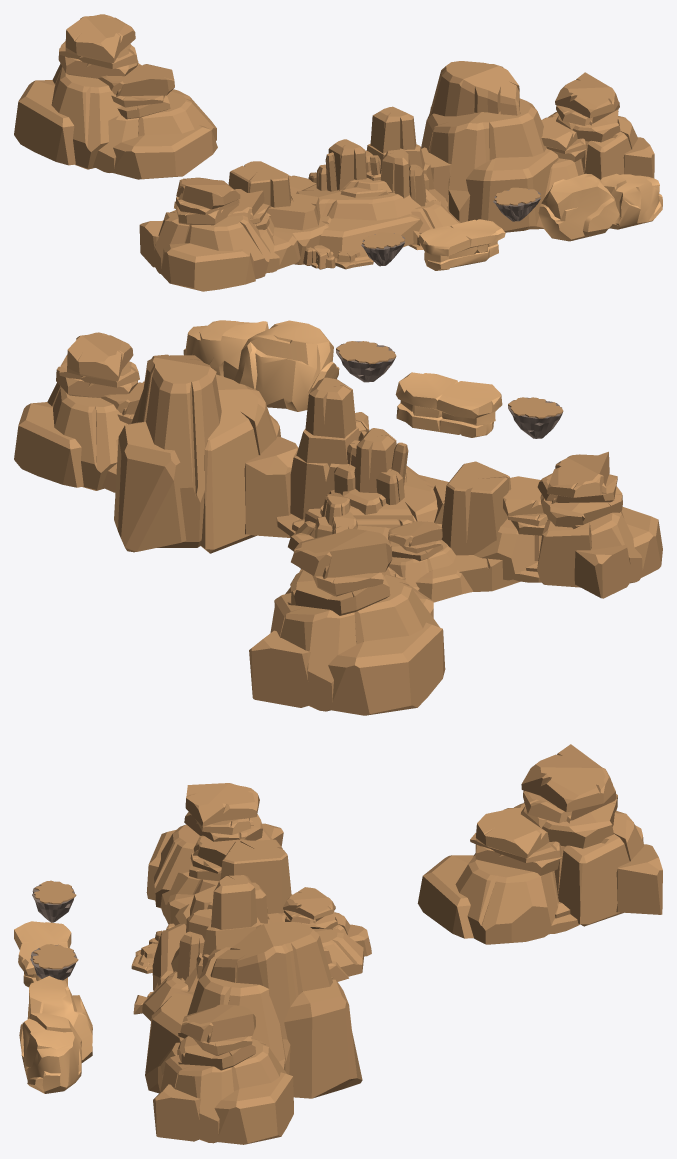
File: level 1.fbx
The picture shows the model from 3 angles, top to bottom: view 1: azimuth 30°, elevation 25°; view 2: azimuth 150°, elevation 25°; view 3: azimuth 270°, elevation 25°; orthographic projection. The views are drawn at different scales.
Parts seen in each view (by area): view 1: canyon 1.002, canyon 1, canyon 2, canyon 1.001, canyon 3, platform batu 2, platform batu 1, ground melayang.001, ground melayang; view 2: canyon 2, canyon 1, canyon 1.002, canyon 1.001, canyon 3, platform batu 2, platform batu 1, ground melayang.001, ground melayang; view 3: canyon 1.002, canyon 2, canyon 1, canyon 3, canyon 1.001, platform batu 2, platform batu 1, ground melayang.001, ground melayang.
Part boxes in pixels (x1=…): canyon 1.002: x1=14, y1=14, x2=217, y2=179; canyon 1: x1=228, y1=106, x2=460, y2=269; canyon 2: x1=421, y1=61, x2=558, y2=232; canyon 1.001: x1=139, y1=177, x2=300, y2=291; canyon 3: x1=541, y1=72, x2=654, y2=196; platform batu 2: x1=538, y1=173, x2=662, y2=241; platform batu 1: x1=418, y1=219, x2=505, y2=270; ground melayang.001: x1=493, y1=187, x2=540, y2=221; ground melayang: x1=361, y1=232, x2=404, y2=266; canyon 2: x1=114, y1=354, x2=297, y2=553; canyon 1: x1=276, y1=377, x2=520, y2=602; canyon 1.002: x1=249, y1=528, x2=445, y2=715; canyon 1.001: x1=474, y1=451, x2=662, y2=598; canyon 3: x1=14, y1=332, x2=144, y2=492; platform batu 2: x1=183, y1=320, x2=339, y2=411; platform batu 1: x1=395, y1=372, x2=502, y2=437; ground melayang.001: x1=336, y1=341, x2=396, y2=382; ground melayang: x1=508, y1=397, x2=563, y2=438; canyon 1.002: x1=417, y1=744, x2=662, y2=944; canyon 2: x1=145, y1=921, x2=362, y2=1098; canyon 1: x1=131, y1=839, x2=371, y2=1020; canyon 3: x1=153, y1=1004, x2=293, y2=1144; canyon 1.001: x1=146, y1=783, x2=283, y2=924; platform batu 2: x1=19, y1=976, x2=92, y2=1093; platform batu 1: x1=14, y1=921, x2=71, y2=987; ground melayang.001: x1=30, y1=944, x2=78, y2=980; ground melayang: x1=32, y1=880, x2=76, y2=922.
Bounding box in the file's own units: 6665 × 1926 × 6527.
